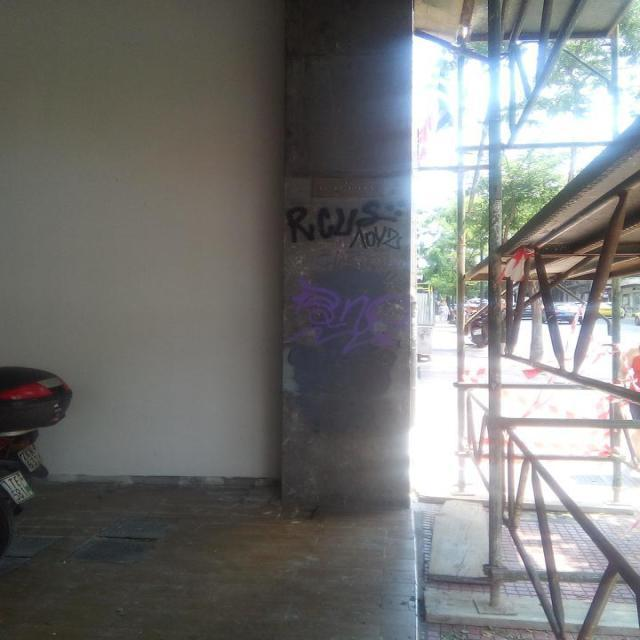nonspitting: (286, 276, 410, 354), (284, 200, 406, 250)
